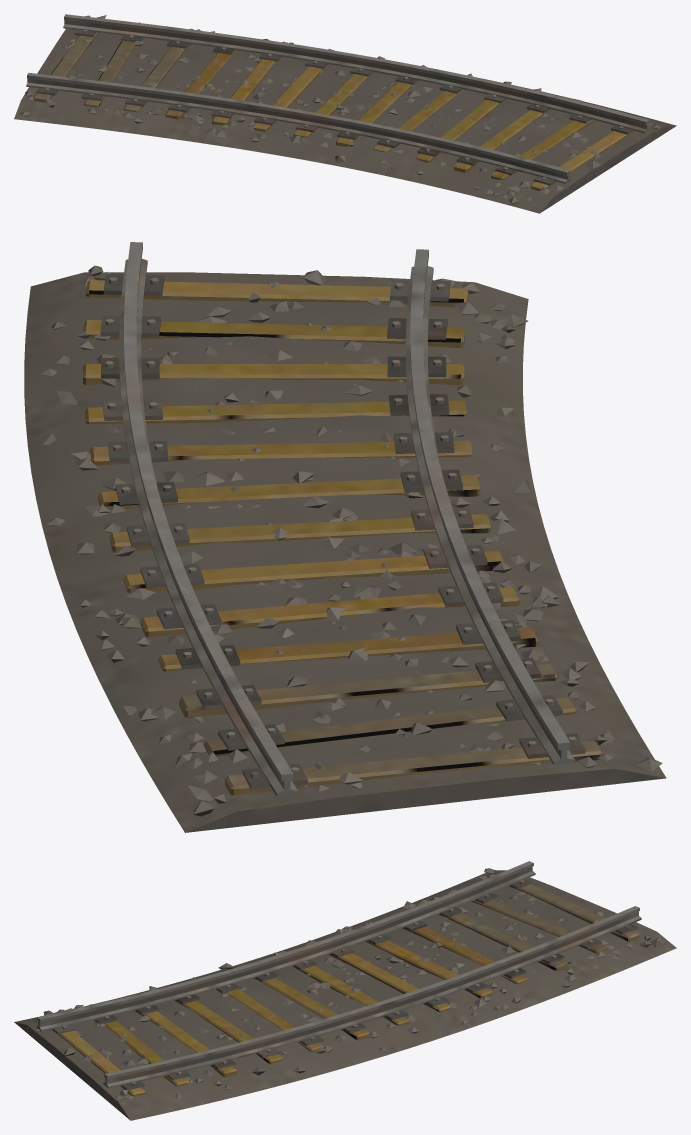
The model's file is curved-rail-b.glb.
3 renders of one model, top to bottom at view 1: azimuth 30°, elevation 25°; view 2: azimuth 150°, elevation 25°; view 3: azimuth 270°, elevation 25°, orthographic. The views are drawn at different scales.
Visible parts, largest first — view 1: body; view 2: body; view 3: body.
Part boxes in pixels (bbox=[...]): body: bbox=[14, 14, 676, 213]; body: bbox=[24, 242, 666, 832]; body: bbox=[14, 861, 676, 1120].
Size of the model in its own units: 4.63 by 0.2226 by 5.18.
1 material, 1 textured.
